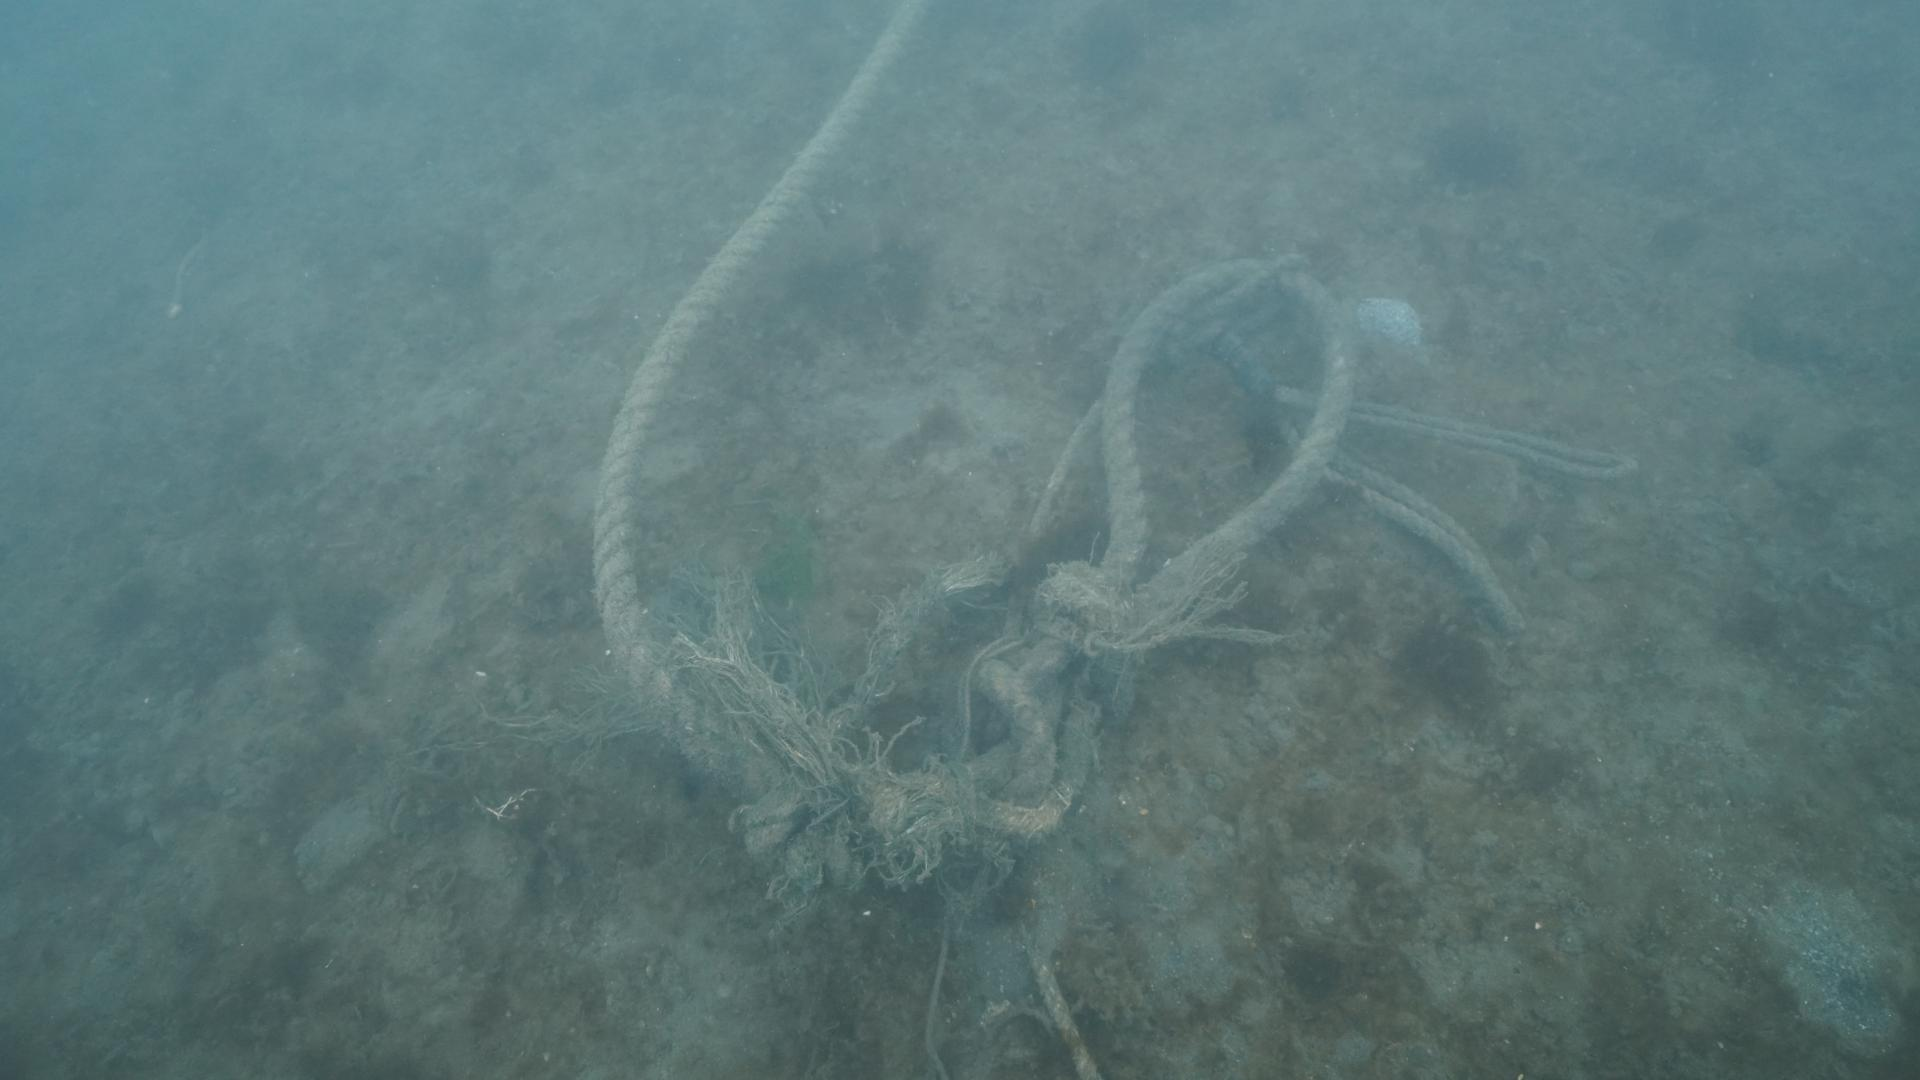bundle of ropes: (580, 0, 1650, 1080)
